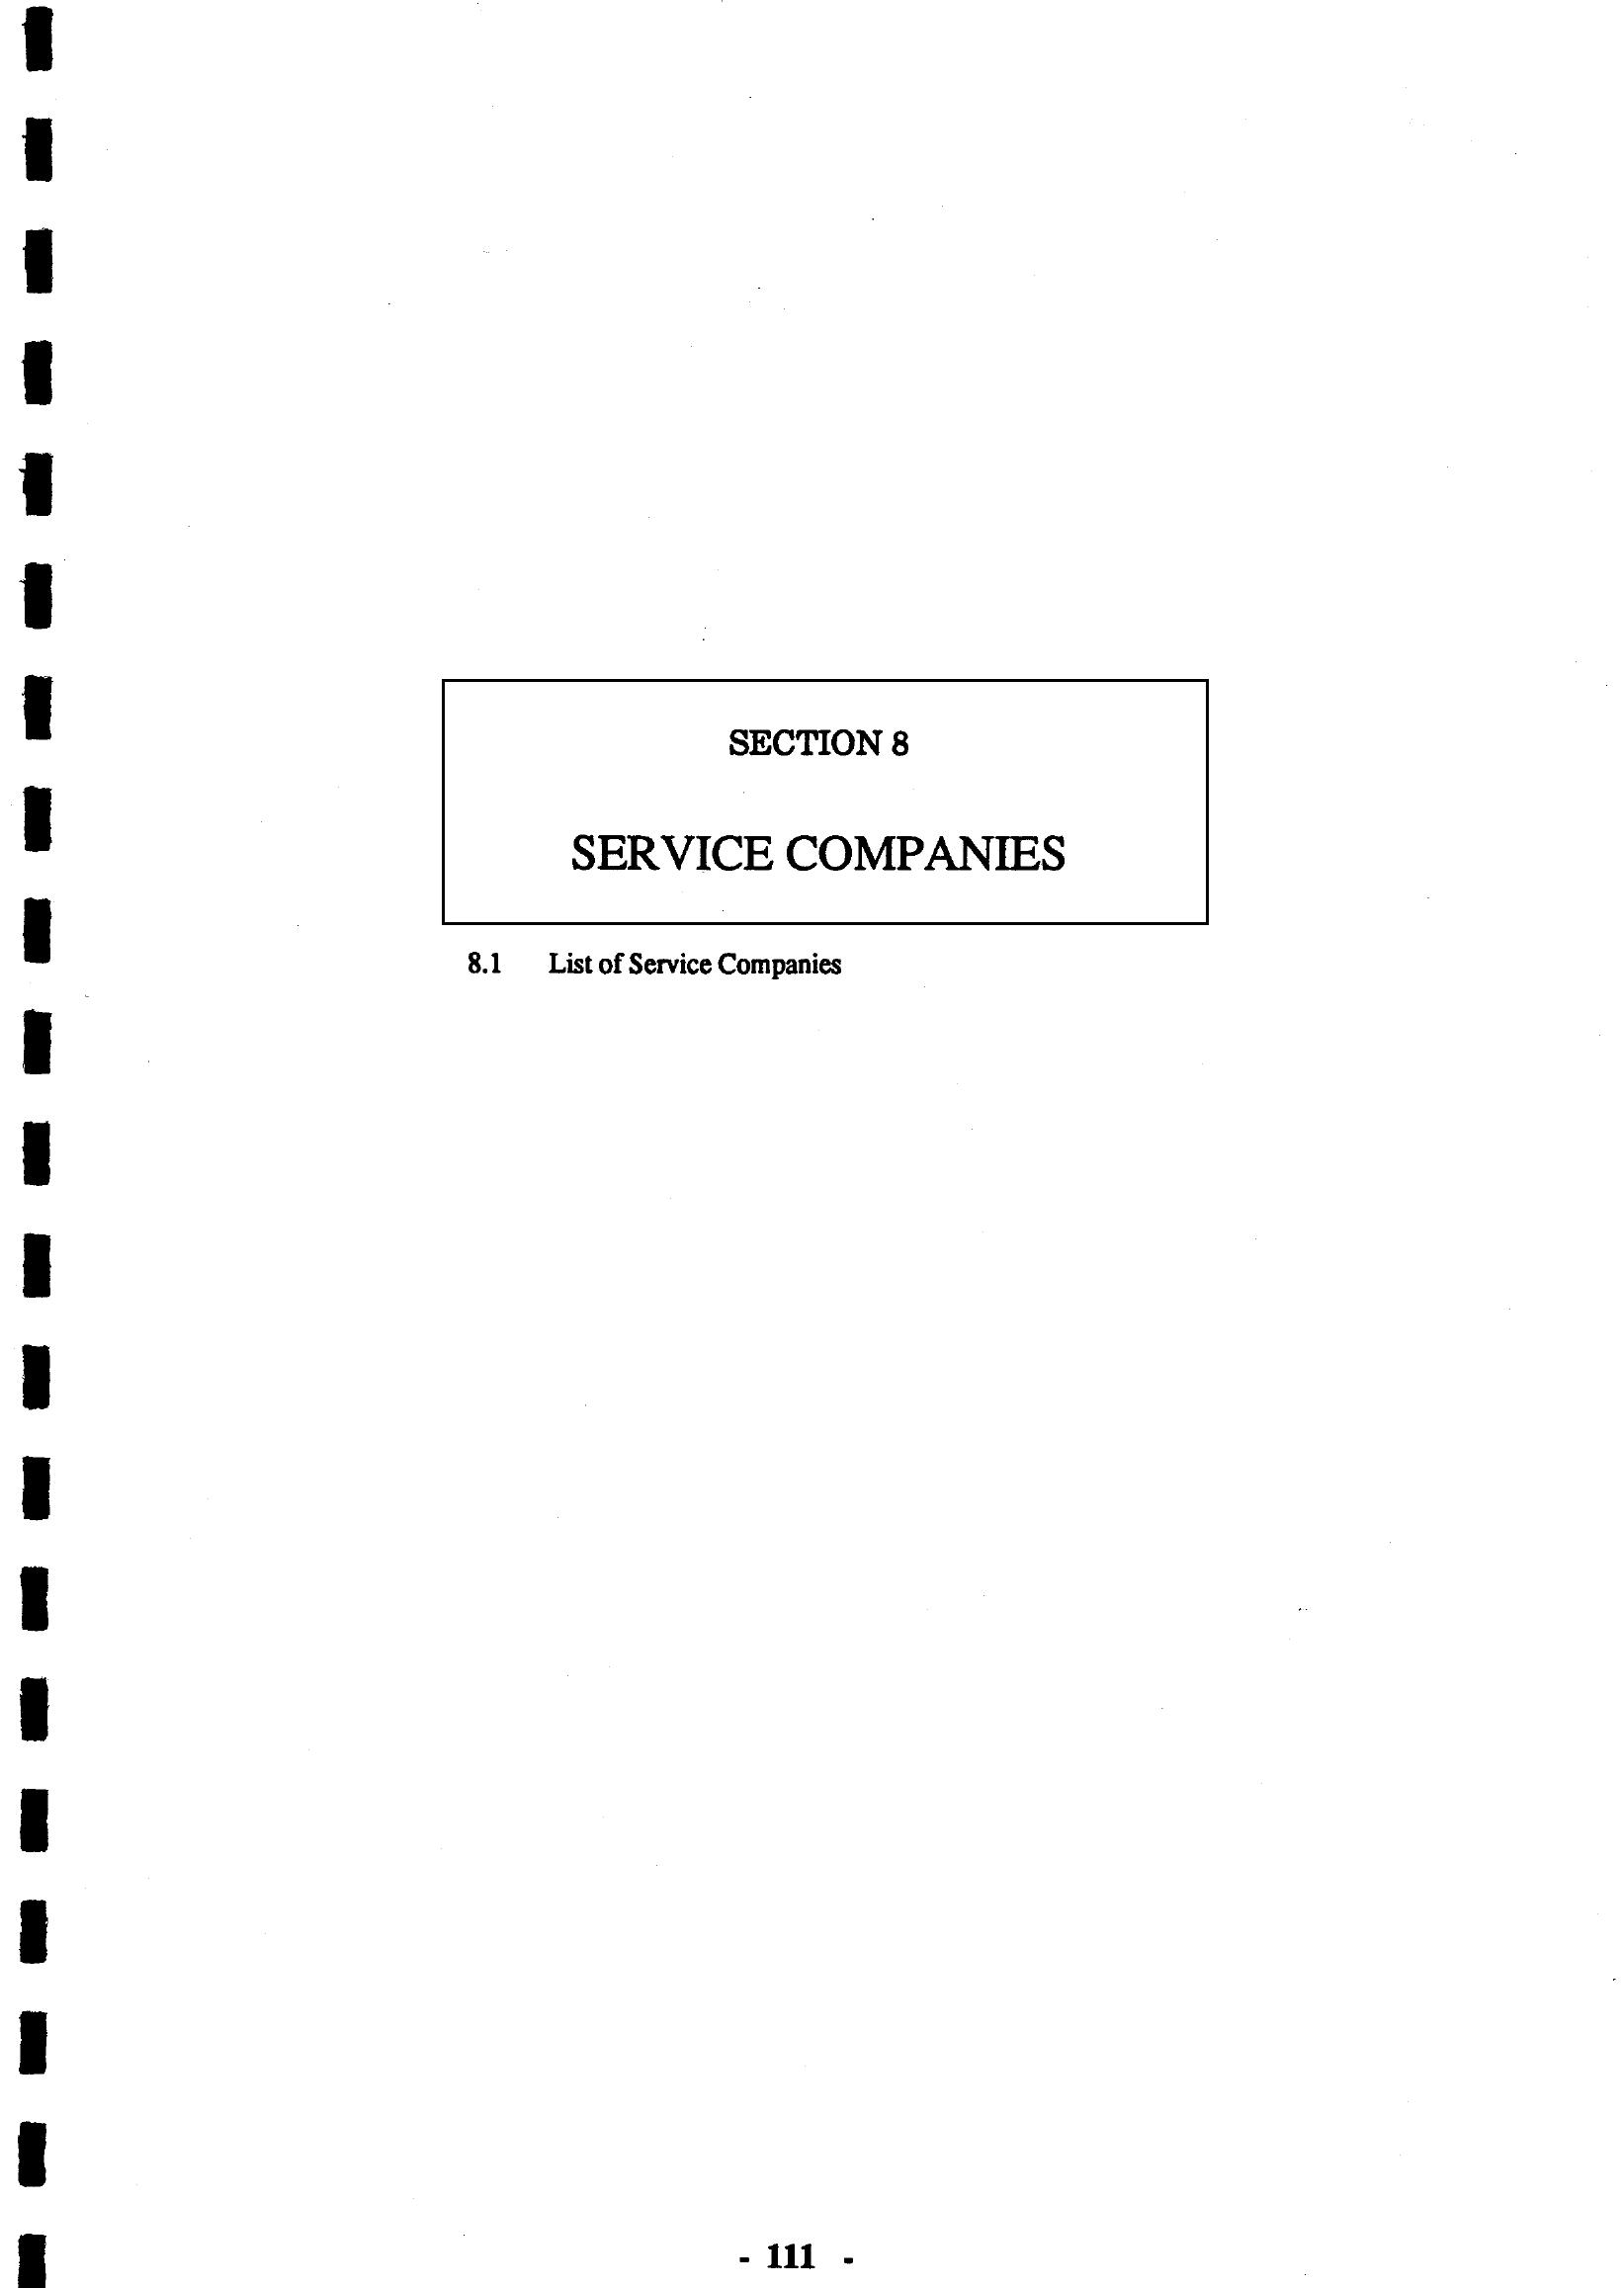text: (381, 613, 1299, 1040)
